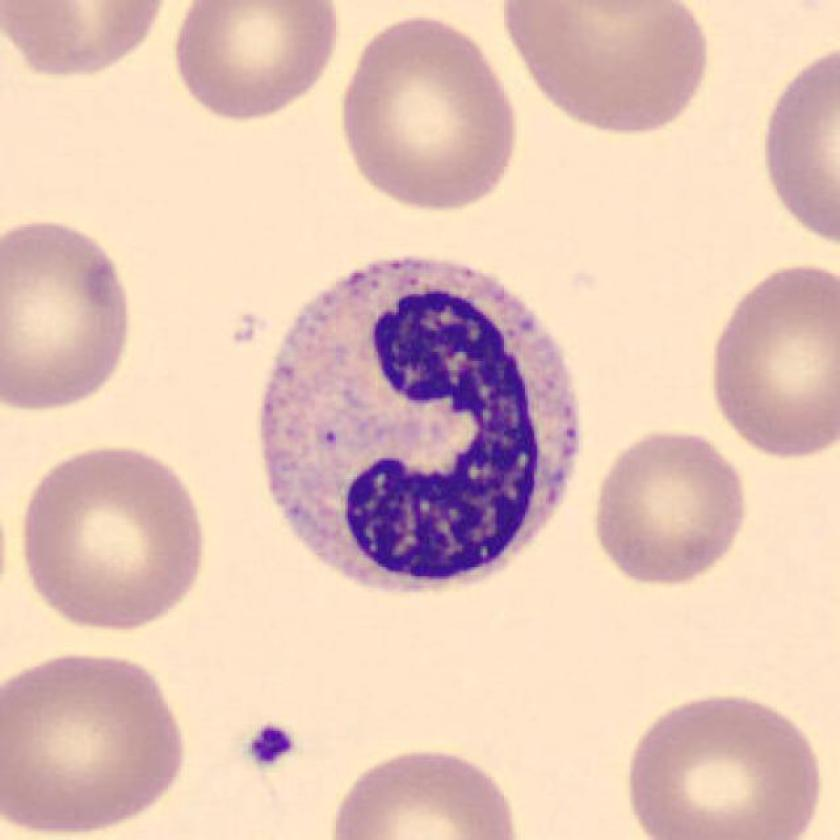neutrophil: (259, 260, 576, 589)
